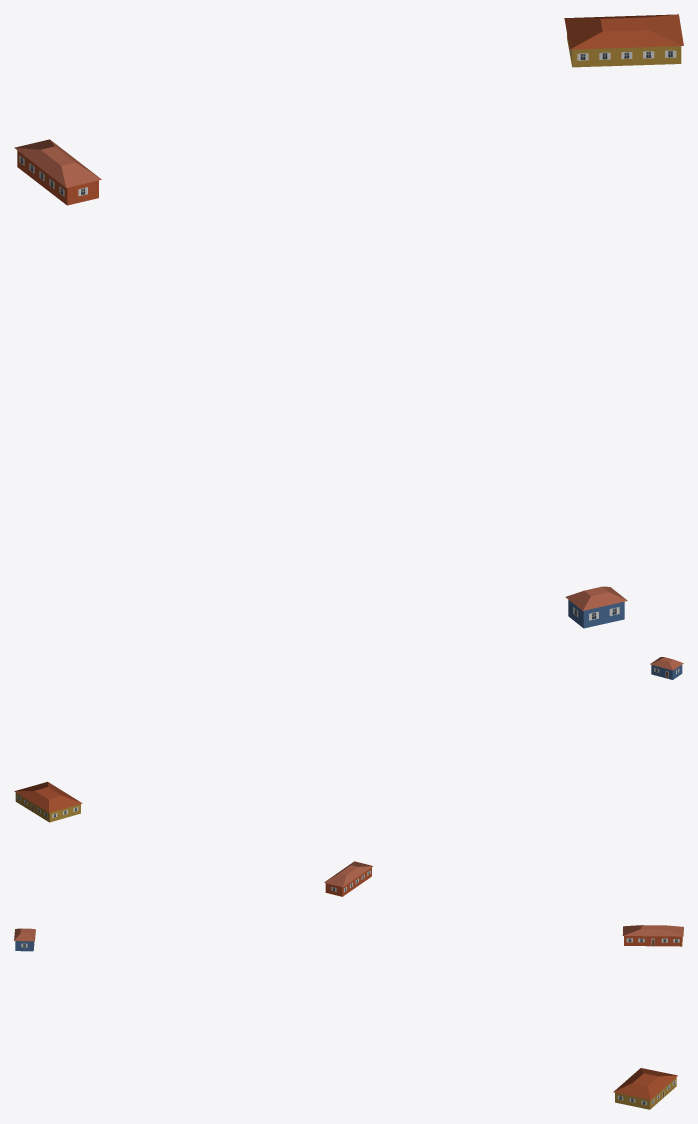
Rendered from msb_oranjestad_m18_m3.glb.
The picture shows the model from 3 angles, top to bottom: view 1: azimuth 30°, elevation 25°; view 2: azimuth 150°, elevation 25°; view 3: azimuth 270°, elevation 25°; orthographic projection. The views are drawn at different scales.
Parts seen in each view (by area): view 1: msb_oranjestad_m18_m3_lod0; view 2: msb_oranjestad_m18_m3_lod0; view 3: msb_oranjestad_m18_m3_lod0.
Boxes of the visible parts, x1,y1,x2,y2 form: msb_oranjestad_m18_m3_lod0: (14,14,683,628); msb_oranjestad_m18_m3_lod0: (14,657,683,896); msb_oranjestad_m18_m3_lod0: (14,925,683,1109).
Size of what is drawn, in the model's own units: 129 by 8.31 by 202.
2 materials, 1 textured.
